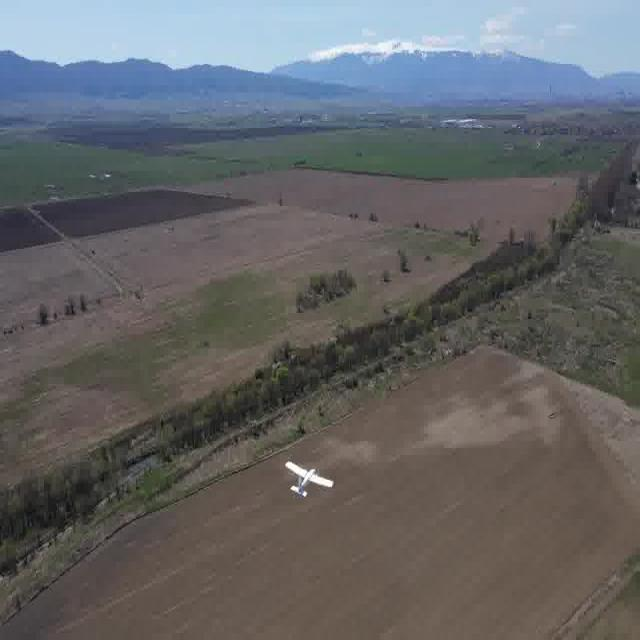iha: (285, 452, 334, 512)
